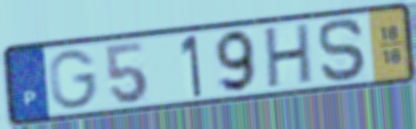1: (179, 33, 204, 99)
5: (102, 39, 151, 106)
9: (211, 28, 259, 96)
G: (46, 47, 101, 111)
H: (263, 20, 314, 92)
S: (316, 16, 371, 83)
